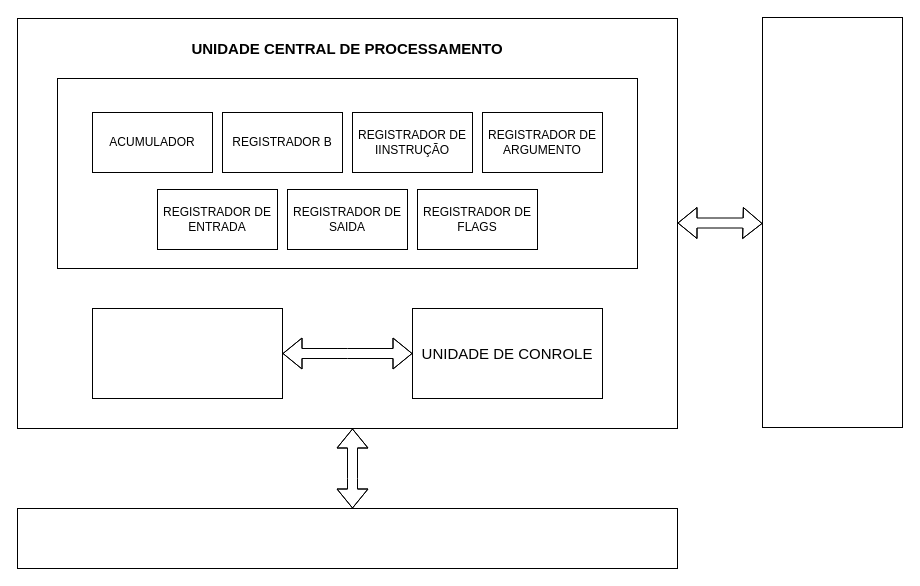
Image size: 920x586. Some labels were removed from this diagram. Here are the shapes that lost their labels. From the top down, the centre of each, then its label:
At point (832, 222): "MEMÓRIA DE PROGRAMA".
At point (187, 353): "UNIDADE LÓGICA E ARITIMÉTICA".
At point (347, 538): "SISTEMA DE ENTRADA E SAIDA".
